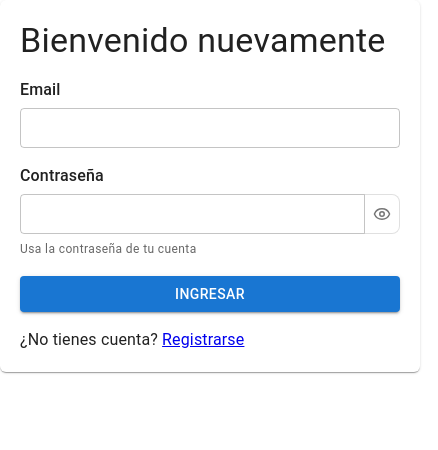
LoginForm › muestra un mensaje cuando signIn falla por red
Type "ana@example.com" into the field named "email" at (210,128), box left=20, top=108, right=400, bottom=148
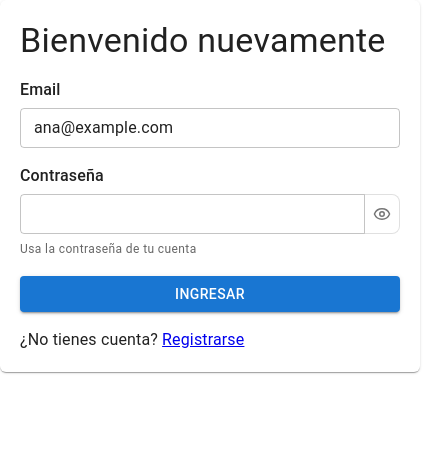
Type "password-123" into the password field named "password" at (192,214), box left=20, top=194, right=365, bottom=234
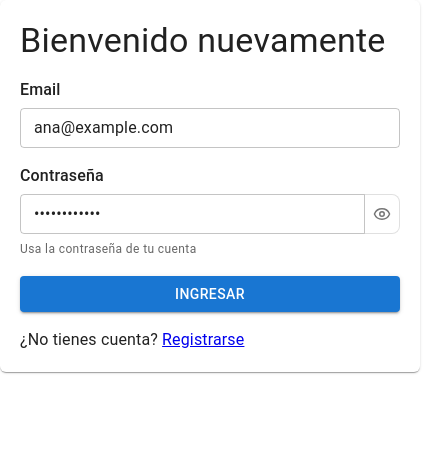
Click the button "Ingresar" at (210,294), box left=20, top=276, right=400, bottom=312
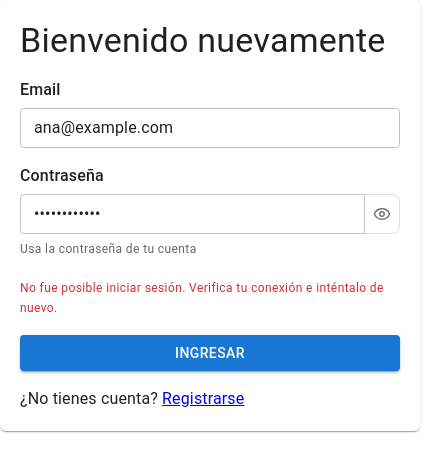
Expected: the message shows "No fue posible iniciar sesión", left=20, top=281, right=384, bottom=315
